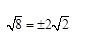sqrt: (51, 14, 70, 33), (5, 14, 22, 30)
